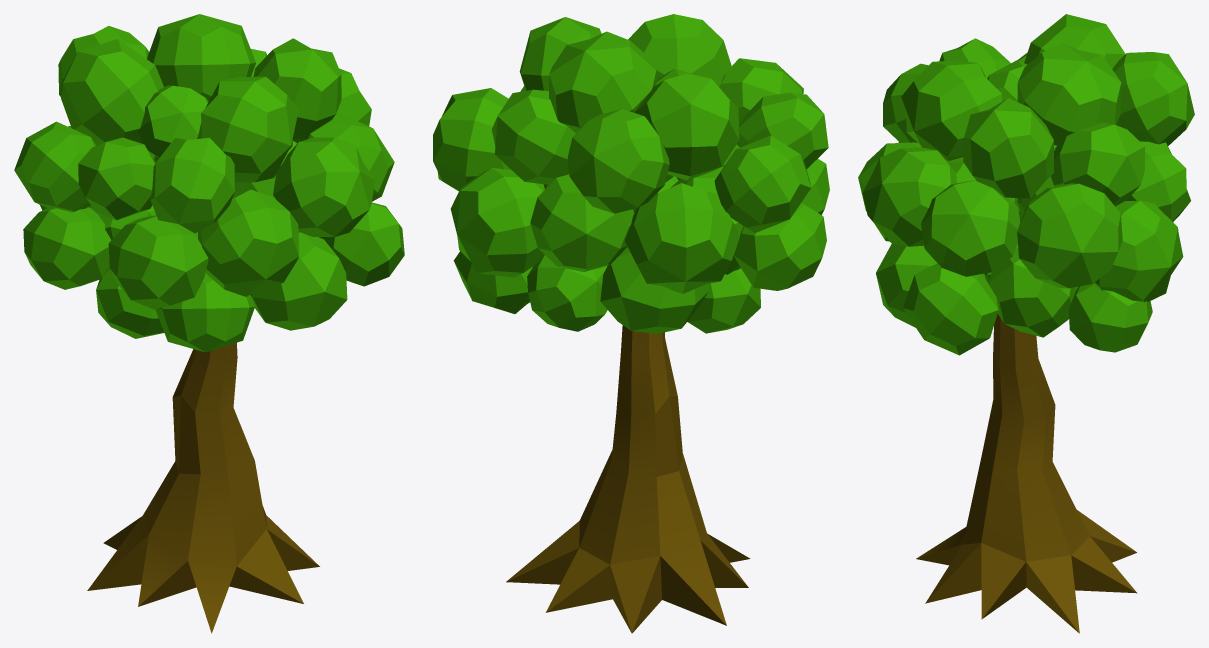
The model's file is Tree3.fbx.
3 views of the same model, side by side, from view 1: azimuth 30°, elevation 25°; view 2: azimuth 150°, elevation 25°; view 3: azimuth 270°, elevation 25° (orthographic). The views are drawn at different scales.
Parts seen in each view (by area): view 1: Tree3; view 2: Tree3; view 3: Tree3.
Boxes of the visible parts, <box> form: Tree3: <box>14,14,404,633</box>; Tree3: <box>433,14,829,633</box>; Tree3: <box>858,14,1194,633</box>.
Size of the model in its own units: 4.25 by 6.28 by 3.57.
